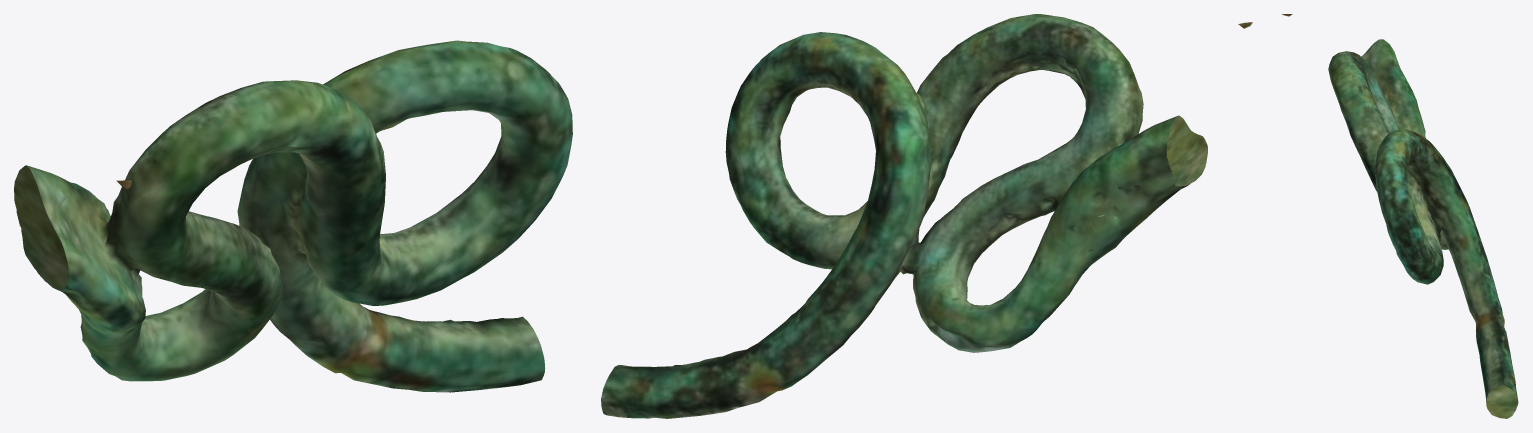
3 renders of one model, left to right at view 1: azimuth 30°, elevation 25°; view 2: azimuth 150°, elevation 25°; view 3: azimuth 270°, elevation 25°, orthographic. The views are drawn at different scales.
Visible parts, largest first — view 1: Mesh_0.006; view 2: Mesh_0.006; view 3: Mesh_0.006.
Part boxes in pixels (x1,y1,x2,y2): Mesh_0.006: (14, 40, 572, 392); Mesh_0.006: (601, 14, 1252, 418); Mesh_0.006: (1282, 14, 1518, 418).
Size of the model in its own units: 0.172 by 0.1341 by 0.1129.
1 material, 1 textured.
